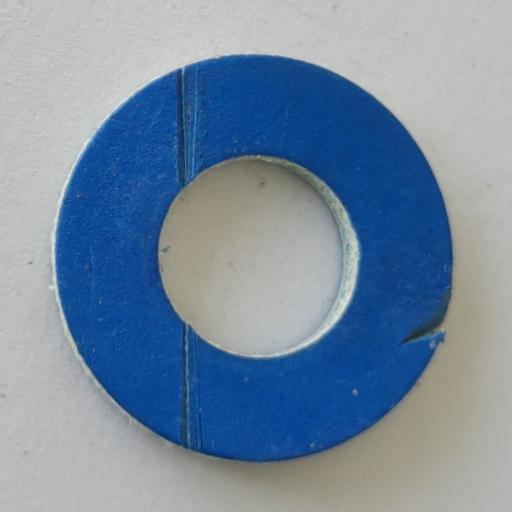defect: (178, 62, 203, 189), (182, 323, 205, 451), (396, 314, 446, 349)
